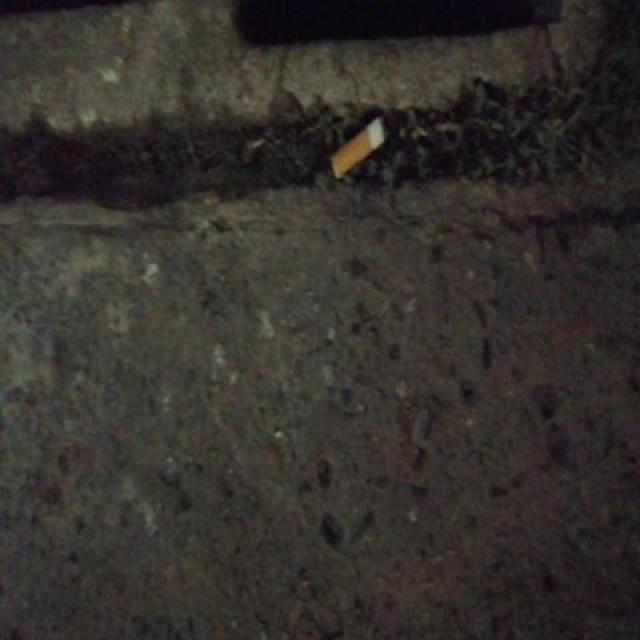non-organic waste: (326, 114, 390, 182)
